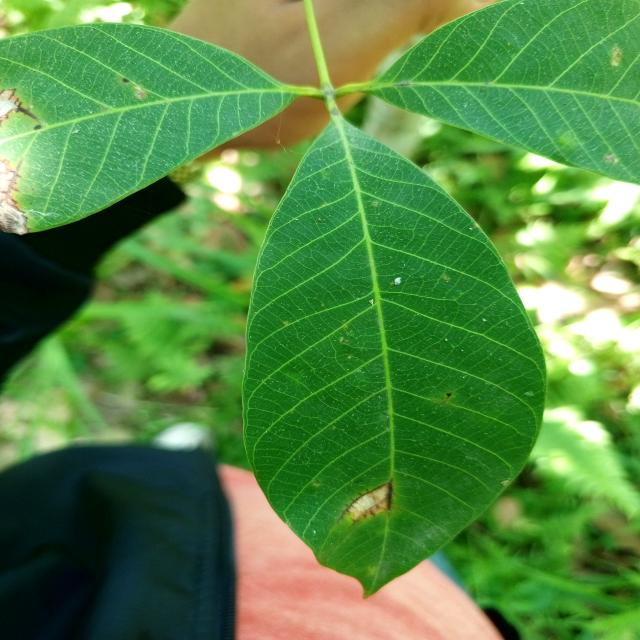Corynespora: (338, 483, 385, 520), (1, 160, 25, 202), (16, 103, 37, 121), (386, 479, 396, 511)
Leaf-Blight: (0, 162, 29, 235), (350, 484, 390, 523), (0, 89, 20, 119)
